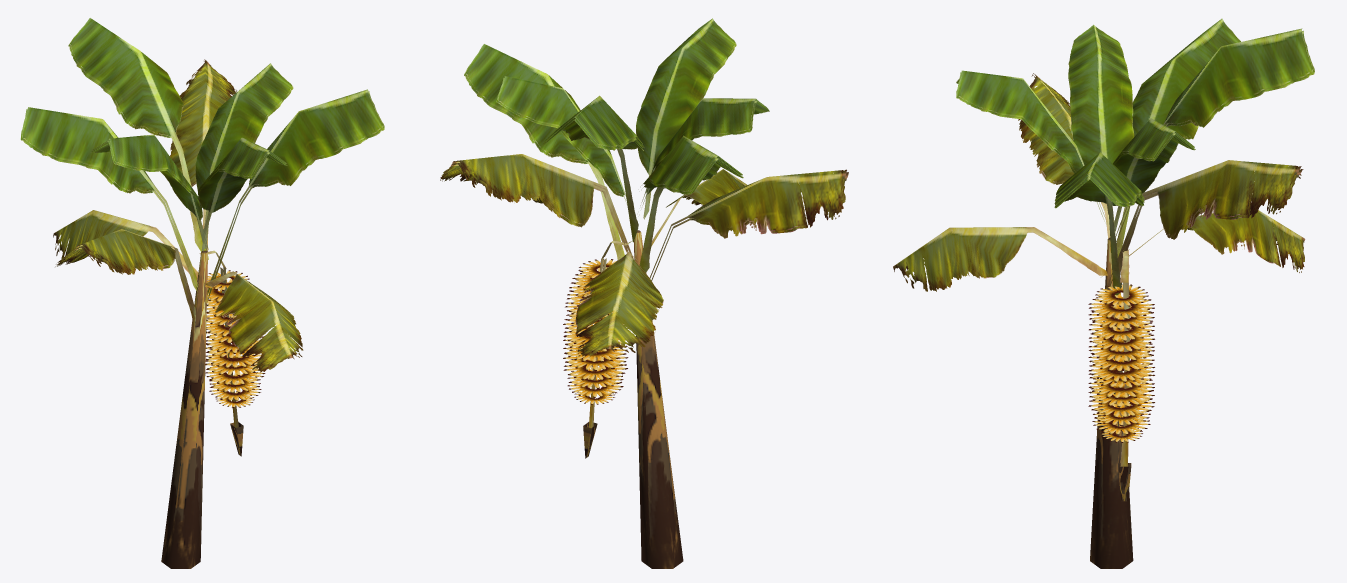
The model's file is 0ad-ancient.e6baf49b607c.banana.glb.
3 renders of one model, left to right at view 1: azimuth 30°, elevation 25°; view 2: azimuth 150°, elevation 25°; view 3: azimuth 270°, elevation 25°, orthographic. The views are drawn at different scales.
Visible parts, largest first — view 1: flora/trees/banana.xml; view 2: flora/trees/banana.xml; view 3: flora/trees/banana.xml.
Part boxes in pixels (left/top/right/bottom): flora/trees/banana.xml: left=20, top=18, right=384, bottom=568; flora/trees/banana.xml: left=440, top=18, right=848, bottom=568; flora/trees/banana.xml: left=893, top=18, right=1314, bottom=568.
Size of the model in its own units: 9.23 by 12.11 by 9.14.
1 material, 1 textured.
